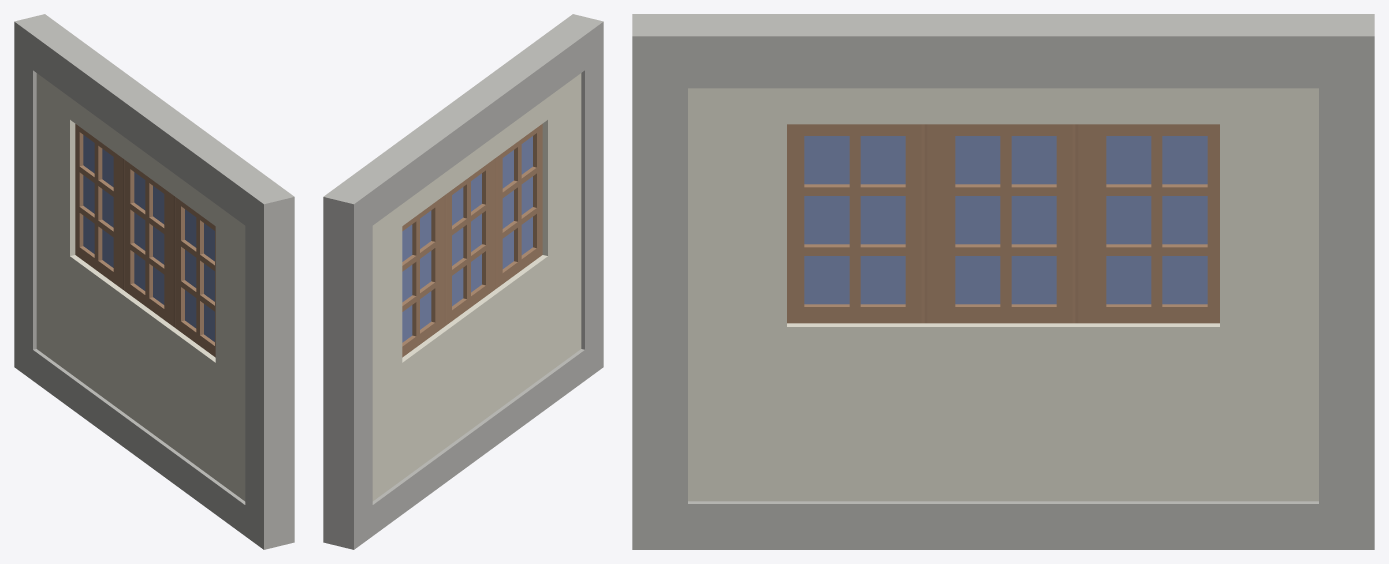
File: Window01_house2.fbx
The picture shows the model from 3 angles, left to right: view 1: azimuth 30°, elevation 25°; view 2: azimuth 150°, elevation 25°; view 3: azimuth 270°, elevation 25°; orthographic projection. The views are drawn at different scales.
Visible parts, largest first — view 1: Window01_house02; view 2: Window01_house02; view 3: Window01_house02.
Part boxes in pixels (x1=…): Window01_house02: x1=14, y1=14, x2=294, y2=549; Window01_house02: x1=323, y1=14, x2=603, y2=549; Window01_house02: x1=632, y1=14, x2=1374, y2=549.
Bounding box in the file's own units: 34.17 × 367 × 481.
